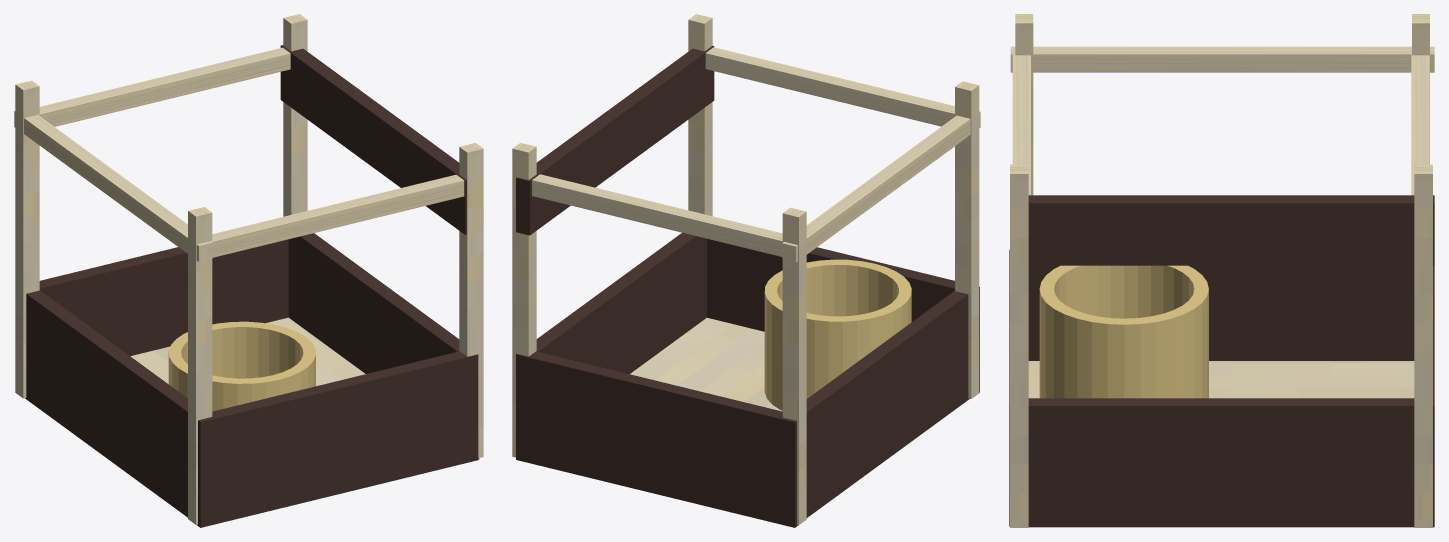
The model's file is Shop.glb.
3 renders of one model, left to right at view 1: azimuth 30°, elevation 25°; view 2: azimuth 150°, elevation 25°; view 3: azimuth 270°, elevation 25°, orthographic. The views are drawn at different scales.
Visible parts, largest first — view 1: Cube.008, Cube.006, Cube.007, Cube.005, Cube.009, Cylinder, Cube.012, Cube.004, Cube.011, Cube.003, Cube.002, Cube.010 (+2 smaller); view 2: Cube.007, Cube.006, Cube.005, Cylinder, Cube.009, Cube, Cube.008, Cube.003, Cube.011, Cube.012, Cube.004, Cube.010 (+2 smaller); view 3: Cube.005, Cube.009, Cylinder, Cube.006, Cube.010, Cube, Cube.001, Cube.002, Cube.011, Cube.012, Cube.003, Cube.004.
Boxes of the visible parts, left/top/right/bottom form: Cube.008: left=197, top=351, right=478, bottom=527; Cube.006: left=25, top=290, right=214, bottom=517; Cube.007: left=39, top=239, right=288, bottom=356; Cube.005: left=288, top=233, right=479, bottom=459; Cube.009: left=280, top=45, right=466, bottom=234; Cylinder: left=168, top=321, right=315, bottom=411; Cube.012: left=196, top=174, right=464, bottom=260; Cube.004: left=15, top=80, right=39, bottom=398; Cube.011: left=24, top=47, right=290, bottom=133; Cube.003: left=188, top=207, right=212, bottom=524; Cube.002: left=459, top=143, right=483, bottom=458; Cube.010: left=14, top=111, right=212, bottom=261; Cube.007: left=517, top=352, right=797, bottom=527; Cube.006: left=782, top=291, right=969, bottom=517; Cube.005: left=516, top=232, right=706, bottom=459; Cylinder: left=764, top=259, right=911, bottom=410; Cube.009: left=516, top=45, right=714, bottom=235; Cube: left=630, top=318, right=782, bottom=411; Cube.008: left=707, top=239, right=979, bottom=392; Cube.003: left=955, top=81, right=979, bottom=398; Cube.011: left=532, top=174, right=782, bottom=256; Cube.012: left=705, top=47, right=979, bottom=128; Cube.004: left=782, top=207, right=806, bottom=525; Cube.010: left=782, top=111, right=980, bottom=262; Cube.005: left=1028, top=398, right=1434, bottom=527; Cube.009: left=1028, top=195, right=1434, bottom=265; Cylinder: left=1039, top=265, right=1208, bottom=398; Cube.006: left=1028, top=265, right=1414, bottom=360; Cube.010: left=1010, top=46, right=1434, bottom=72; Cube: left=1028, top=361, right=1414, bottom=398; Cube.001: left=1414, top=164, right=1432, bottom=527; Cube.002: left=1010, top=164, right=1028, bottom=527; Cube.011: left=1411, top=54, right=1429, bottom=195; Cube.012: left=1012, top=54, right=1030, bottom=195; Cube.003: left=1015, top=14, right=1033, bottom=195; Cube.004: left=1412, top=14, right=1429, bottom=164.
Size of the model in its own units: 4.47 by 4.63 by 5.02.
3 materials, 1 textured.
